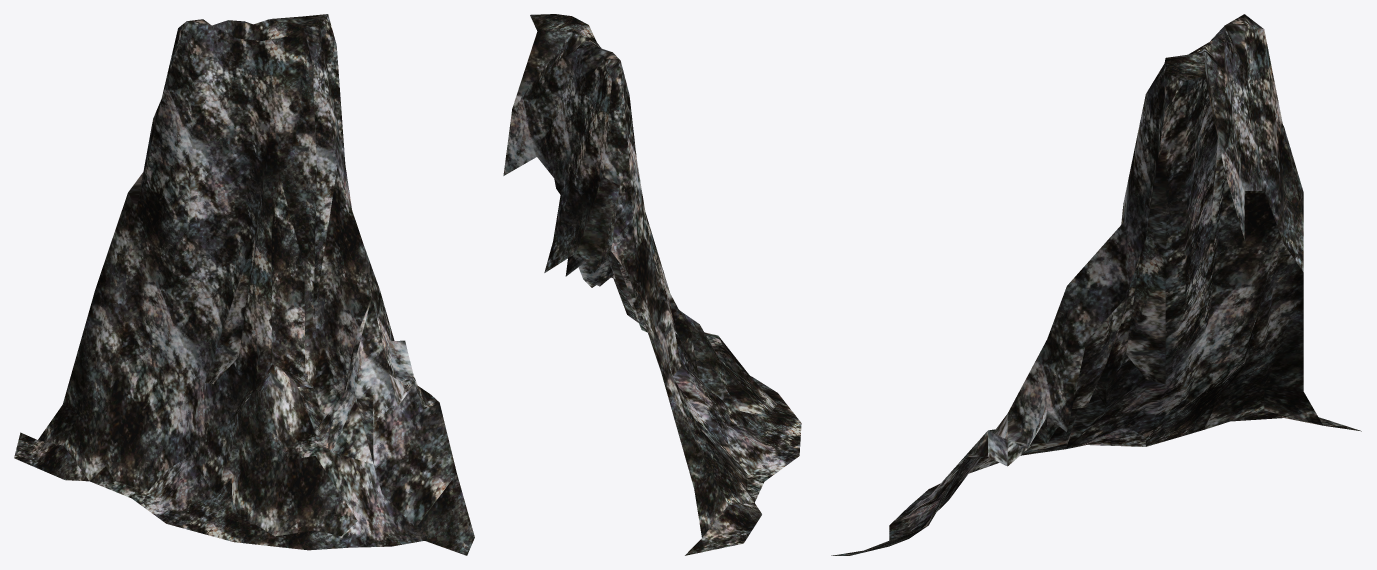
File: OVERHILL_A_01_MOUNTAIN.fbx
The picture shows the model from 3 angles, left to right: view 1: azimuth 30°, elevation 25°; view 2: azimuth 150°, elevation 25°; view 3: azimuth 270°, elevation 25°; orthographic projection. The views are drawn at different scales.
Parts seen in each view (by area): view 1: OVERHILL_A_01_MOUNTAIN; view 2: OVERHILL_A_01_MOUNTAIN; view 3: OVERHILL_A_01_MOUNTAIN.
Boxes of the visible parts, x1,y1,x2,y2 form: OVERHILL_A_01_MOUNTAIN: (14, 14, 474, 555); OVERHILL_A_01_MOUNTAIN: (503, 14, 801, 555); OVERHILL_A_01_MOUNTAIN: (831, 14, 1361, 555).
Size of the model in its own units: 232266 by 339246 by 336561.
Materials: 1 (1 with a texture image).
